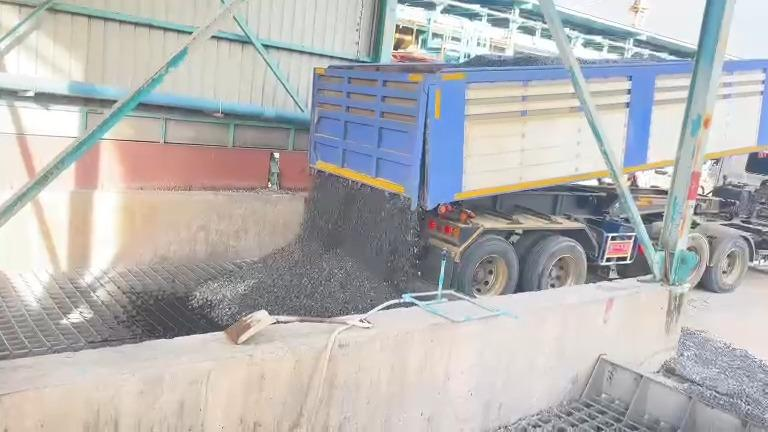gravel: (190, 172, 420, 324), (674, 329, 767, 425), (455, 53, 561, 67), (579, 59, 619, 65)
